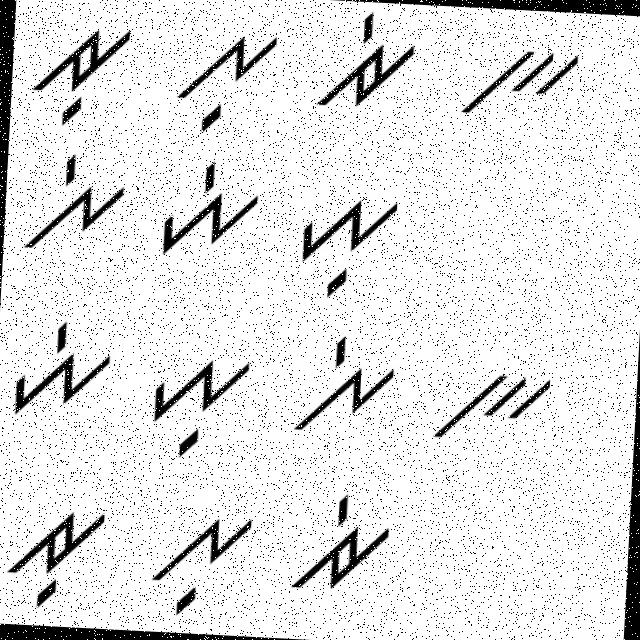le: (278, 328, 405, 447), (16, 148, 132, 256)
lu: (170, 24, 288, 140), (148, 501, 257, 622)
re: (312, 4, 422, 126), (282, 488, 399, 602)
ru: (1, 500, 114, 616), (26, 15, 136, 131)
ye: (279, 188, 407, 300), (148, 154, 267, 260), (0, 317, 119, 421)
yu: (142, 347, 253, 462)
